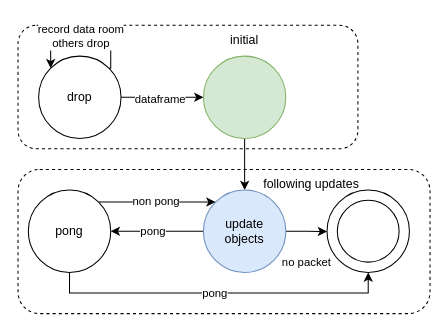
This 448x332 diagram has some shape labels left out. Each missing label, with the centre of its shape:
"end" goes at point (367, 230).
"first dataframes" goes at point (244, 97).
